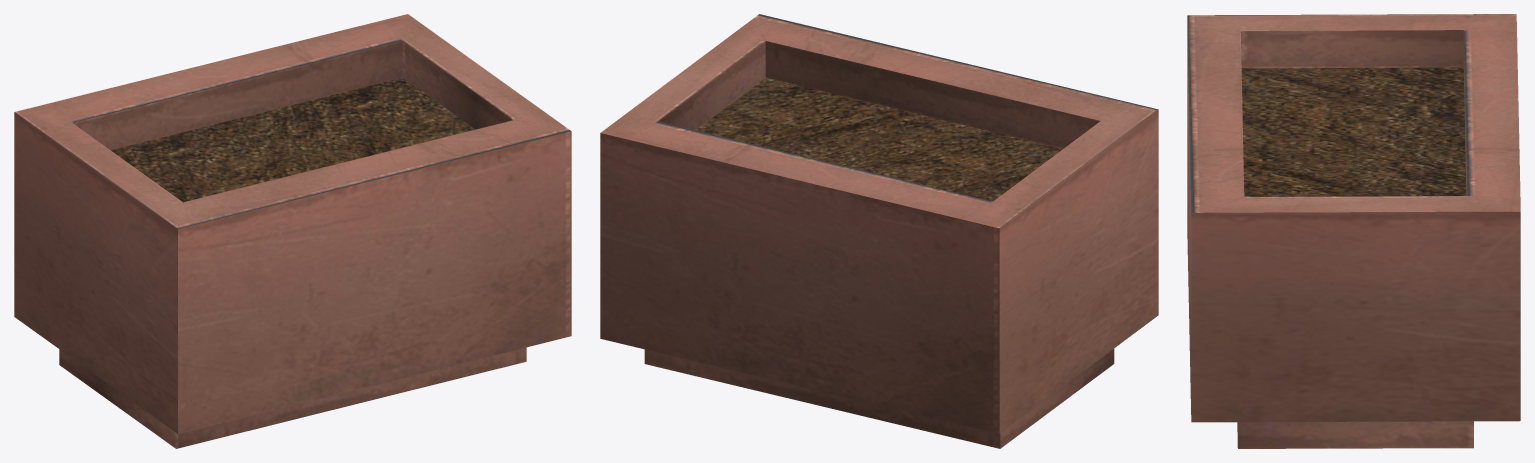
The model's file is huapen.fbx.
The picture shows the model from 3 angles, left to right: view 1: azimuth 30°, elevation 25°; view 2: azimuth 150°, elevation 25°; view 3: azimuth 270°, elevation 25°; orthographic projection. The views are drawn at different scales.
Visible parts, largest first — view 1: polySurface14; view 2: polySurface14; view 3: polySurface14.
Part boxes in pixels (left/top/right/bottom): polySurface14: left=14, top=14, right=571, bottom=448; polySurface14: left=600, top=14, right=1158, bottom=448; polySurface14: left=1187, top=14, right=1520, bottom=448.
Bounding box in the file's own units: 188 × 109 × 134.
1 material, 1 textured.
